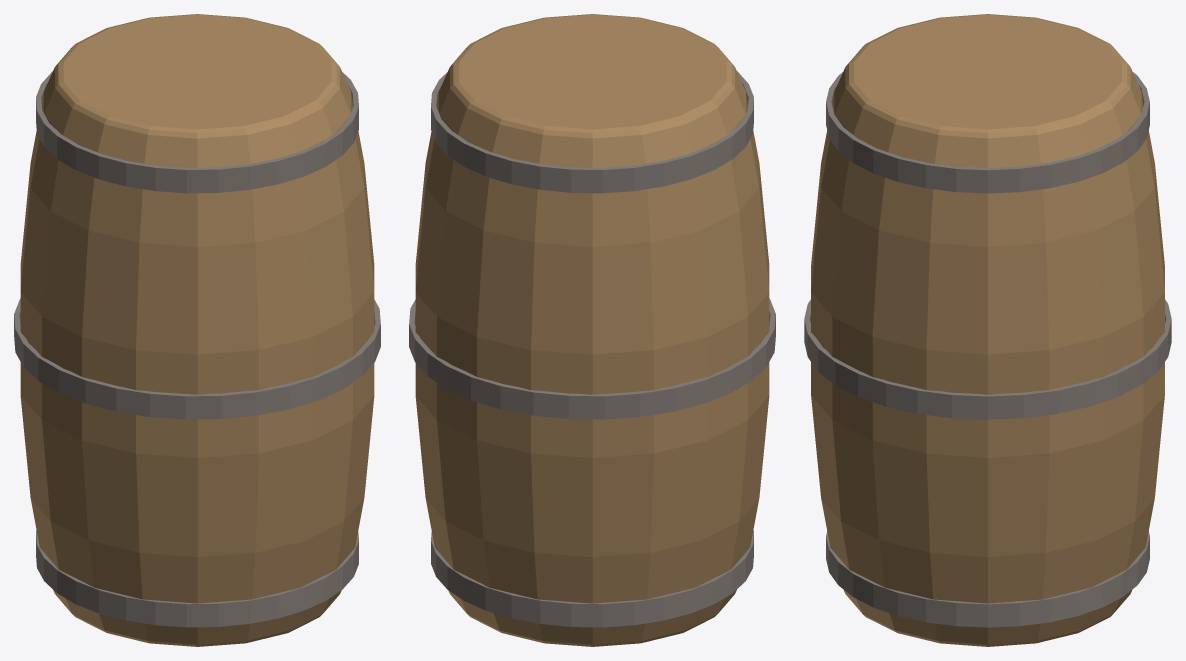
File: barrel.glb
3 views of the same model, side by side, from view 1: azimuth 30°, elevation 25°; view 2: azimuth 150°, elevation 25°; view 3: azimuth 270°, elevation 25° (orthographic).
Parts seen in each view (by area): view 1: Barrel_Body_EXPORT, Barrel_Band_1_EXPORT, Barrel_Band_2_EXPORT, Barrel_Band_0_EXPORT; view 2: Barrel_Body_EXPORT, Barrel_Band_1_EXPORT, Barrel_Band_2_EXPORT, Barrel_Band_0_EXPORT; view 3: Barrel_Body_EXPORT, Barrel_Band_1_EXPORT, Barrel_Band_2_EXPORT, Barrel_Band_0_EXPORT.
Boxes of the visible parts, box(x1,y1,x2,y2) form: Barrel_Body_EXPORT: box(20, 14, 374, 646); Barrel_Band_1_EXPORT: box(14, 298, 380, 419); Barrel_Band_2_EXPORT: box(36, 71, 358, 193); Barrel_Band_0_EXPORT: box(36, 530, 358, 627); Barrel_Body_EXPORT: box(415, 14, 769, 646); Barrel_Band_1_EXPORT: box(409, 298, 775, 419); Barrel_Band_2_EXPORT: box(431, 71, 753, 193); Barrel_Band_0_EXPORT: box(431, 530, 753, 627); Barrel_Body_EXPORT: box(811, 14, 1164, 646); Barrel_Band_1_EXPORT: box(804, 299, 1171, 419); Barrel_Band_2_EXPORT: box(826, 72, 1149, 193); Barrel_Band_0_EXPORT: box(826, 531, 1149, 627).
Size of the model in its own units: 0.58 by 0.9 by 0.58.
